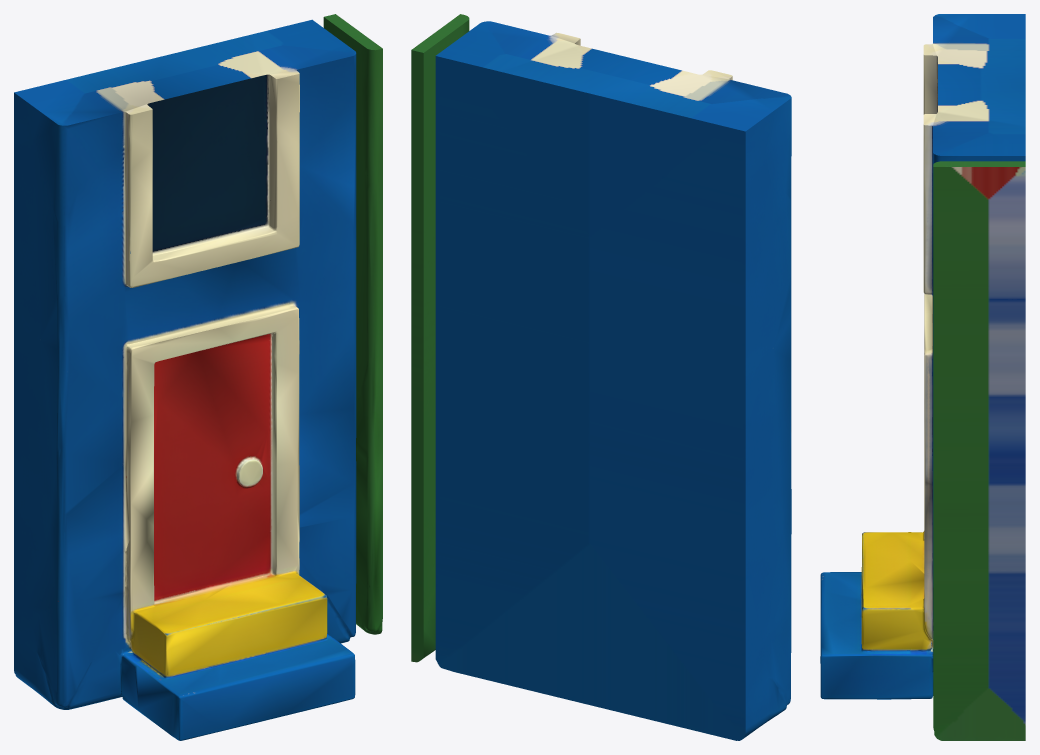
File: 1-ground-floor-front-left.fbx
3 views of the same model, side by side, from view 1: azimuth 30°, elevation 25°; view 2: azimuth 150°, elevation 25°; view 3: azimuth 270°, elevation 25° (orthographic). The views are drawn at different scales.
Parts seen in each view (by area): view 1: ground-floor-front-left; view 2: ground-floor-front-left; view 3: ground-floor-front-left.
Boxes of the visible parts, <box> form: ground-floor-front-left: <box>14,14,382,740</box>; ground-floor-front-left: <box>411,14,791,740</box>; ground-floor-front-left: <box>820,14,1025,740</box>.
Bounding box in the file's own units: 5951 × 10386 × 3362.
1 material, 1 textured.
